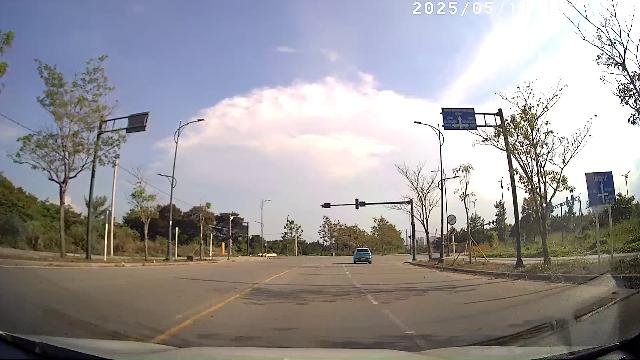135-het-tat-ca-cac-lenh-cam: (447, 215, 457, 226)
